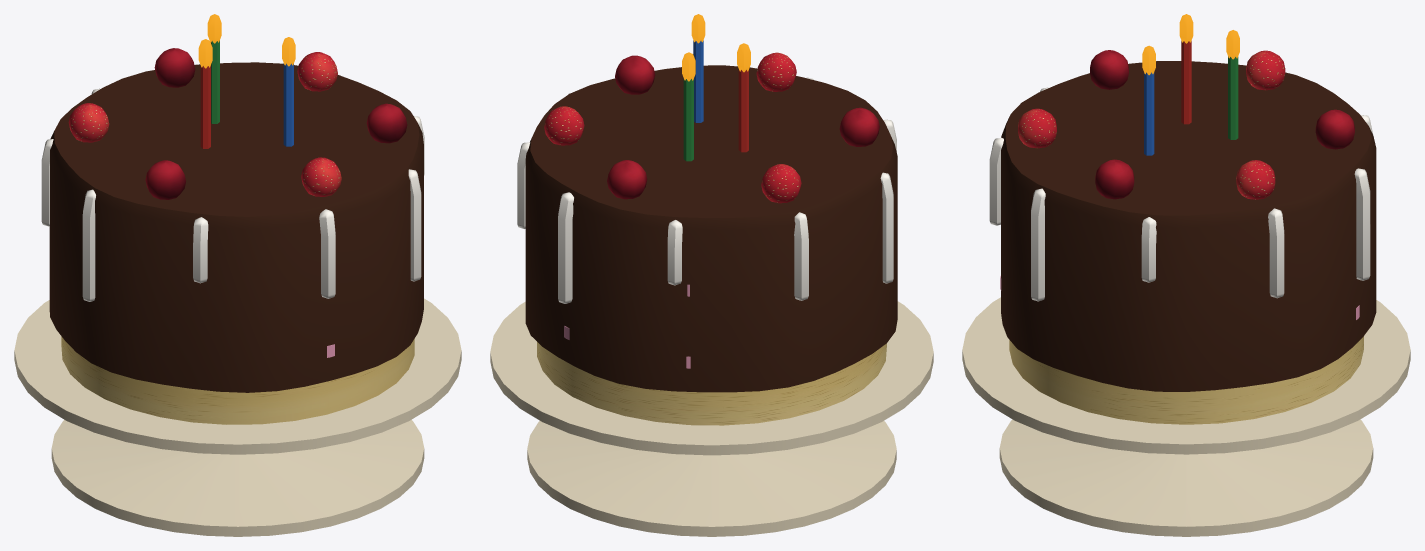
Rendered from bakery_layer_cake_birthday.glb.
3 views of the same model, side by side, from view 1: azimuth 30°, elevation 25°; view 2: azimuth 150°, elevation 25°; view 3: azimuth 270°, elevation 25° (orthographic).
Parts seen in each view (by area): view 1: bakery_layer_cake_birthday; view 2: bakery_layer_cake_birthday; view 3: bakery_layer_cake_birthday.
Boxes of the visible parts, box(x1,y1,x2,y2) form: bakery_layer_cake_birthday: box(14, 14, 461, 536); bakery_layer_cake_birthday: box(490, 14, 933, 536); bakery_layer_cake_birthday: box(962, 14, 1410, 536).
Bounding box in the file's own units: 0.24 × 0.253 × 0.24.
Materials: 11 (3 with a texture image).
